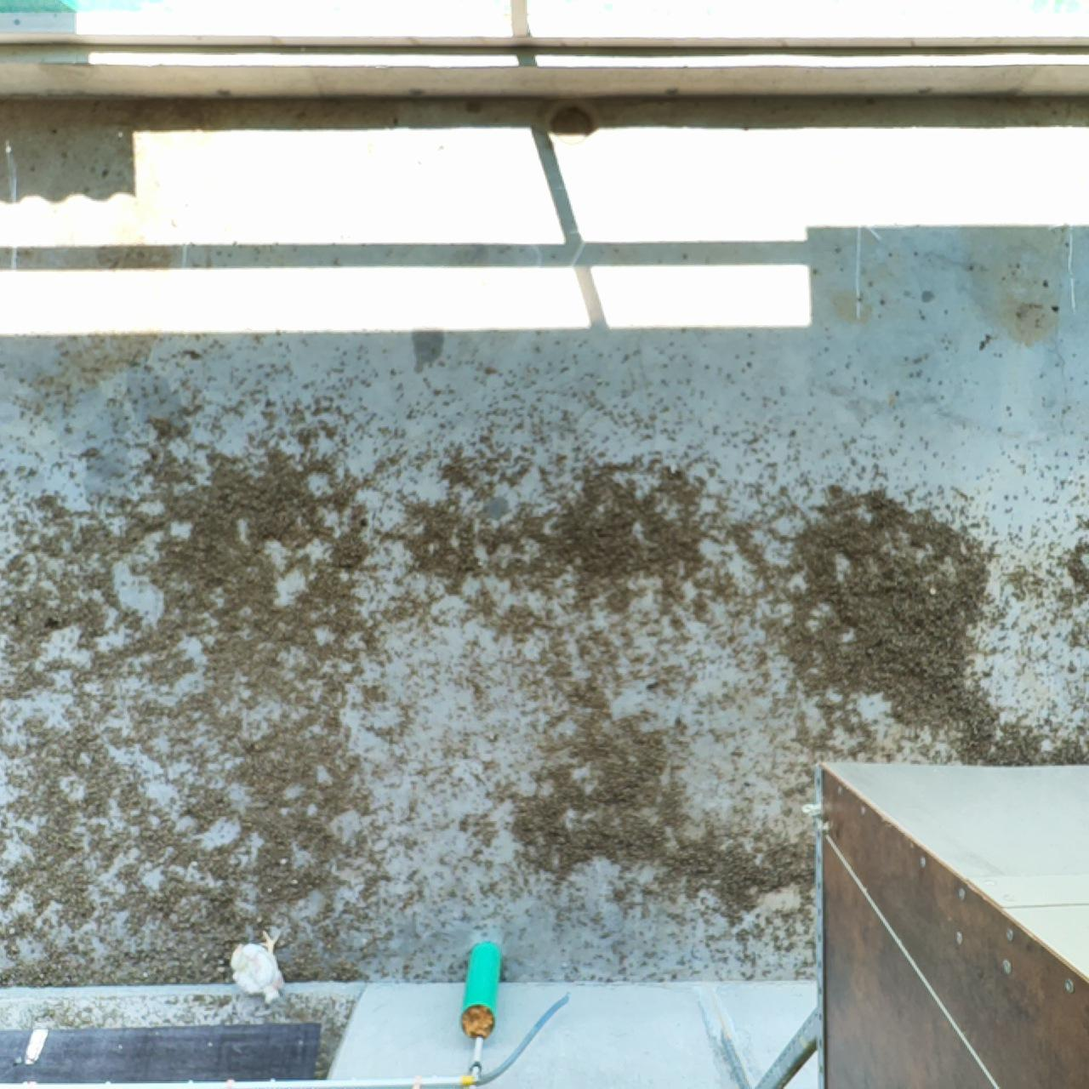chicken: (227, 923, 290, 1008)
